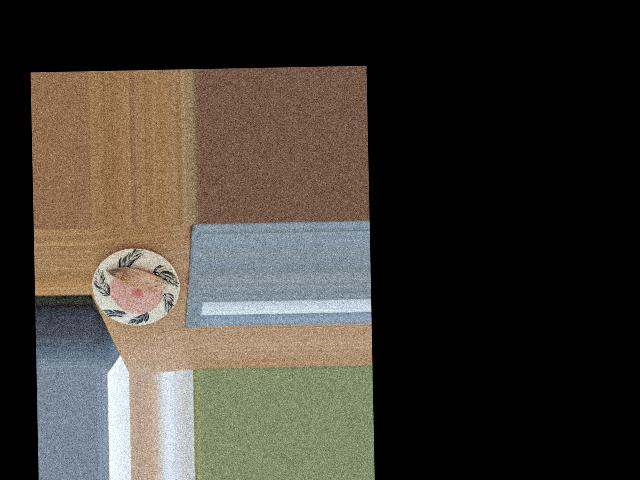sweet_potato: (111, 261, 165, 296)
